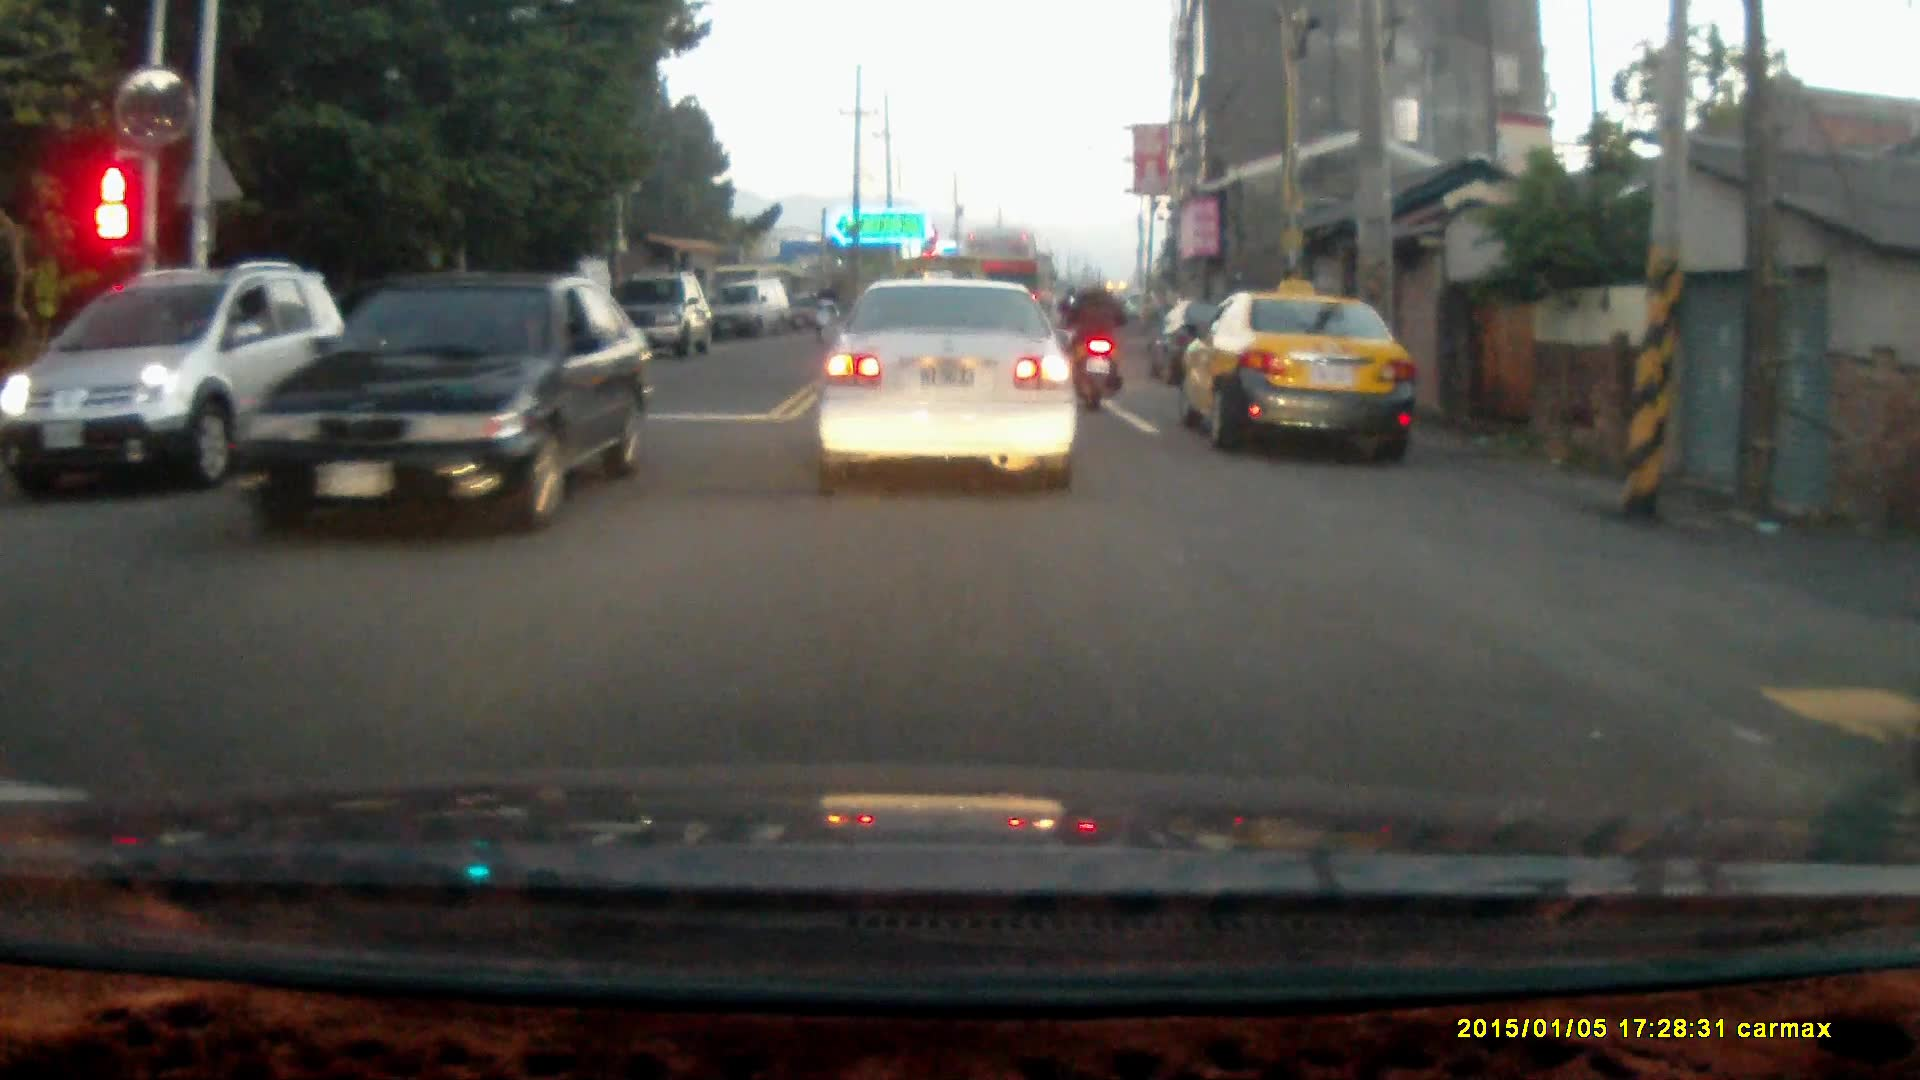rider: (1063, 265, 1127, 410), (807, 276, 840, 345)
vehicle: (208, 271, 628, 536), (18, 265, 346, 497), (816, 276, 1087, 495), (1187, 295, 1420, 461), (618, 266, 711, 361), (718, 284, 794, 344)
